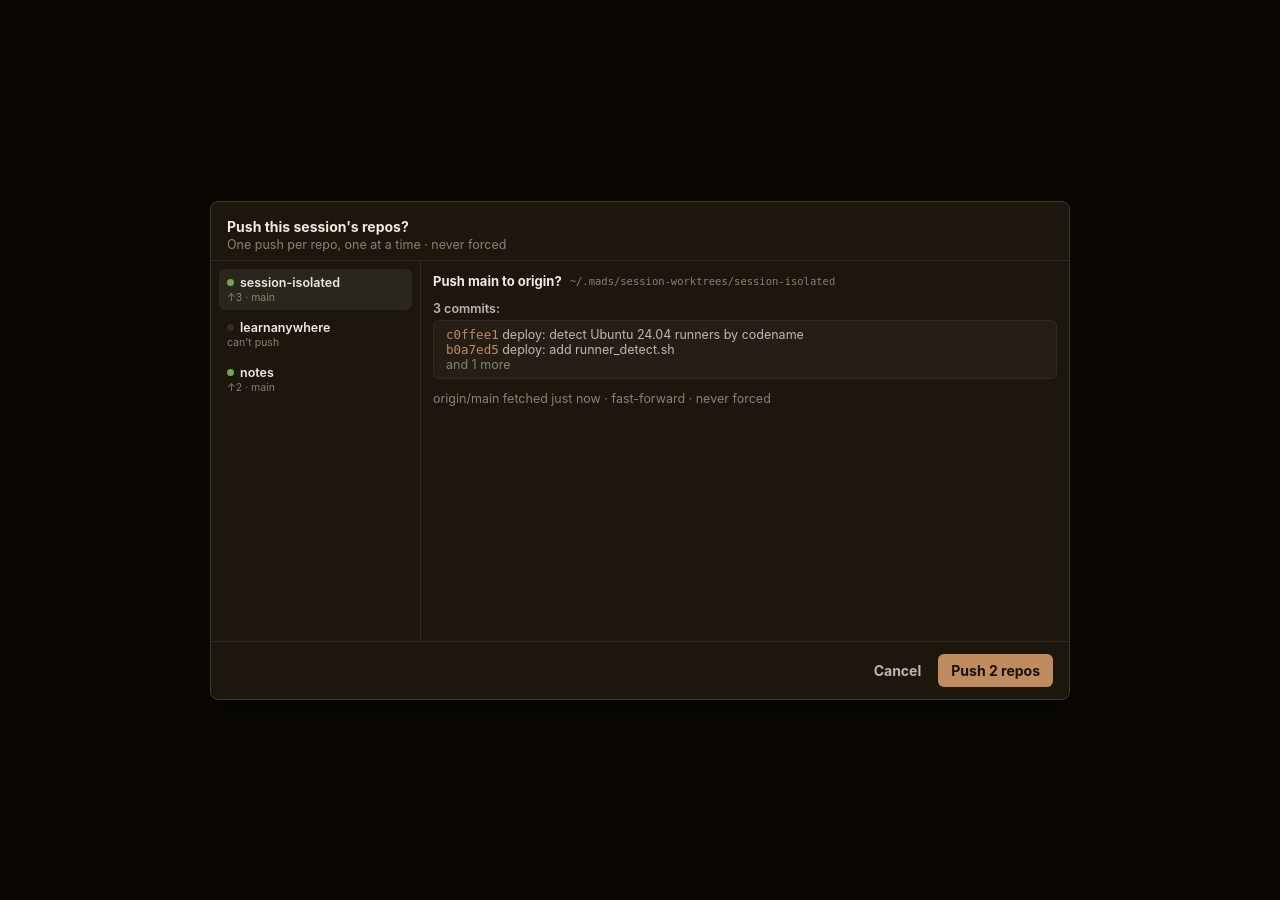
PushDialog — several repos (D5 "Several repos", layout B) › holds a repo whose rebase can't run, saying why and naming the files
Step 1. Click the button "learnanywhere can't push" → click(316, 334), box [219,314,412,354]
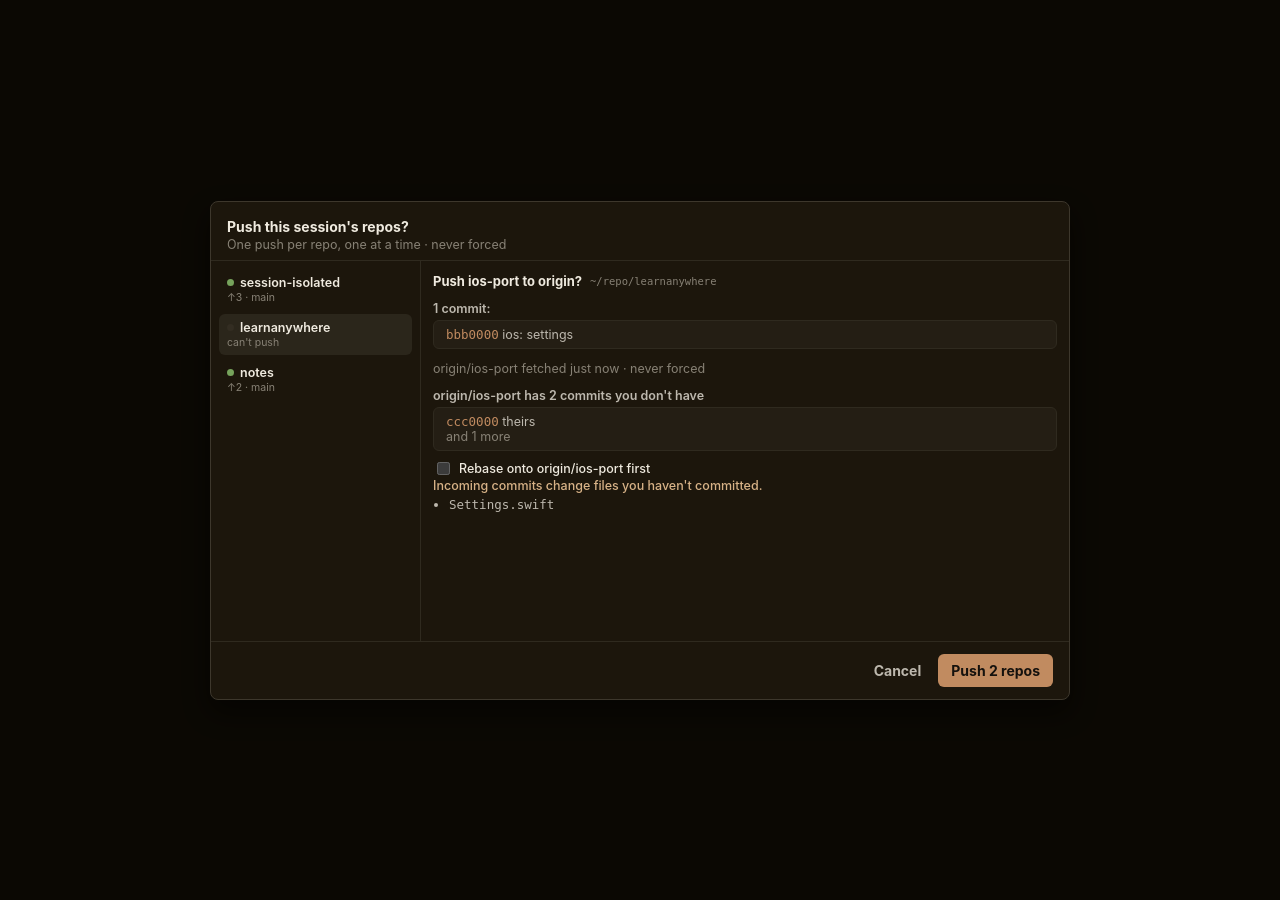
Now the checkbox labelled "Rebase onto origin/ios-port first" is disabled, box [437,462,450,474]
Now the text "Incoming commits change files you haven't committed." is shown, box [433,478,762,492]
Now the list item "Settings.swift" is shown, box [449,496,554,512]
